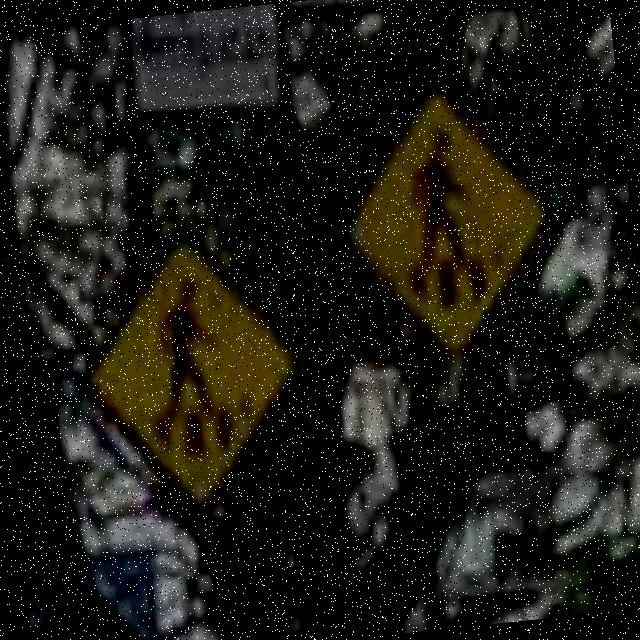Przejscie dla pieszych: (78, 232, 299, 506), (350, 94, 548, 340)
